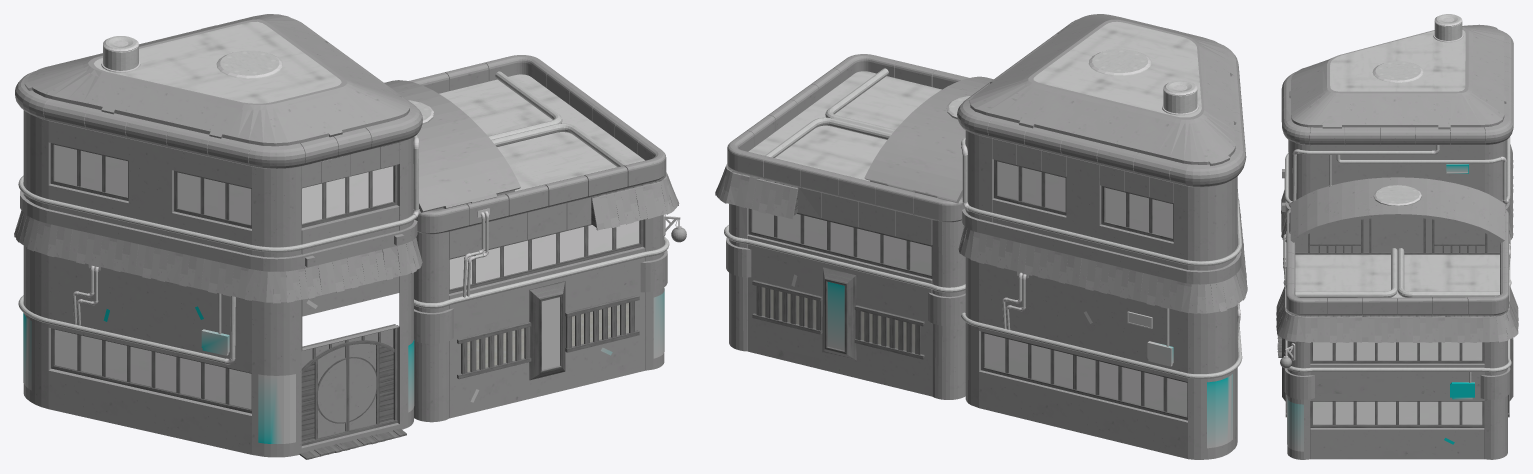
The model's file is SM_ENV_KNVLLG_AreaD_Building_B.mo.fbx.
3 views of the same model, side by side, from view 1: azimuth 30°, elevation 25°; view 2: azimuth 150°, elevation 25°; view 3: azimuth 270°, elevation 25° (orthographic). The views are drawn at different scales.
Visible parts, largest first — view 1: SM_ENV_KNVLLG_AreaD_Building_B.mo; view 2: SM_ENV_KNVLLG_AreaD_Building_B.mo; view 3: SM_ENV_KNVLLG_AreaD_Building_B.mo.
Part boxes in pixels (x1=…): SM_ENV_KNVLLG_AreaD_Building_B.mo: x1=14, y1=14, x2=686, y2=459; SM_ENV_KNVLLG_AreaD_Building_B.mo: x1=715, y1=14, x2=1247, y2=459; SM_ENV_KNVLLG_AreaD_Building_B.mo: x1=1276, y1=14, x2=1518, y2=459.
Size of the model in its own units: 22.01 by 13.82 by 11.12.
